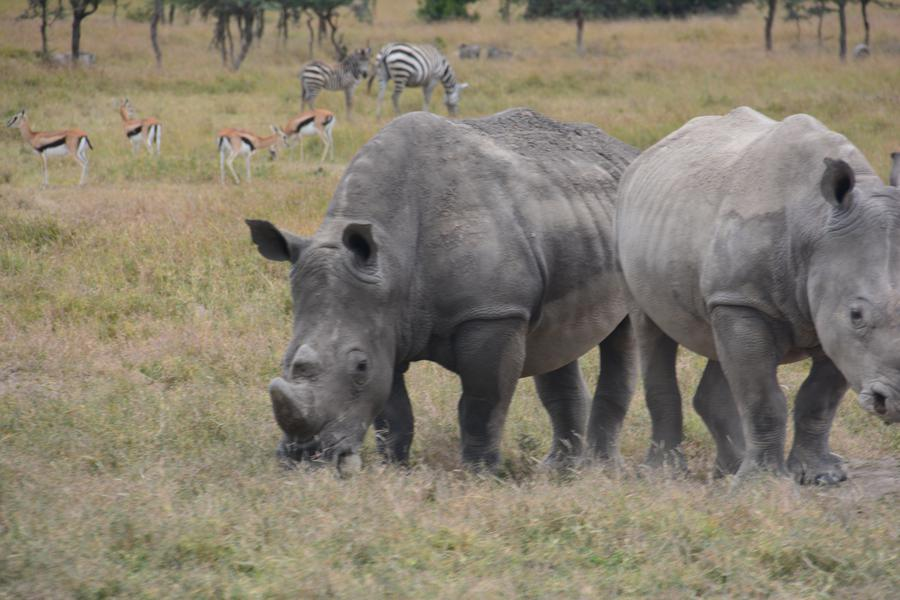rhino: (263, 94, 600, 479), (633, 100, 885, 470)
